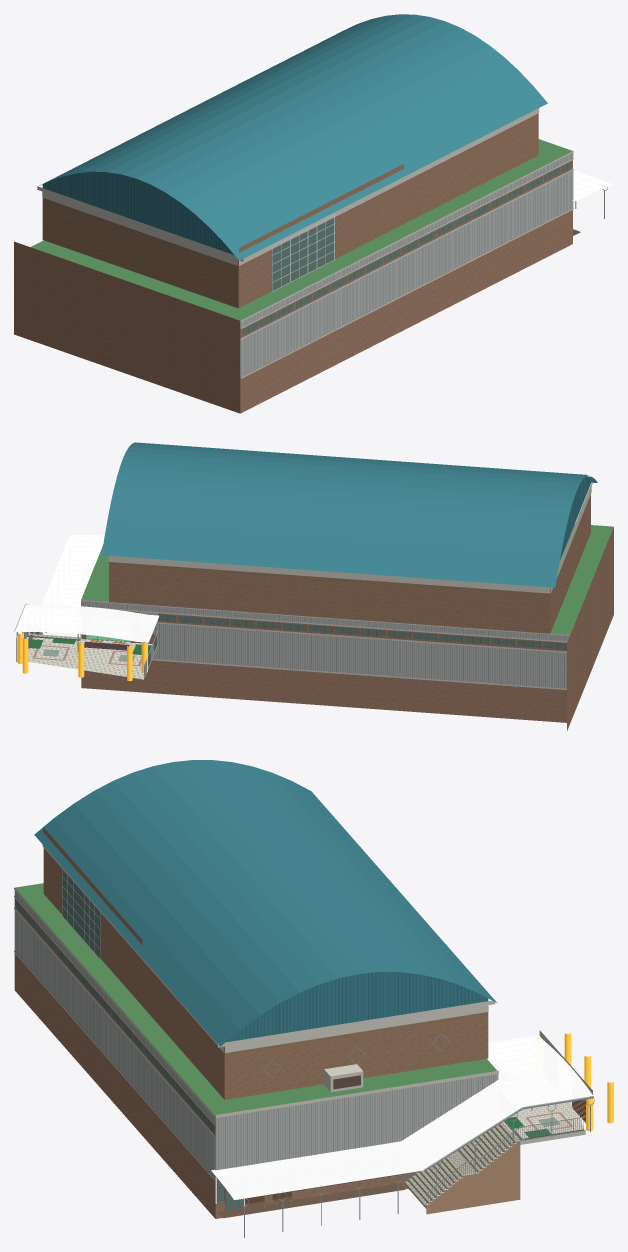
3 renders of one model, top to bottom at view 1: azimuth 30°, elevation 25°; view 2: azimuth 150°, elevation 25°; view 3: azimuth 270°, elevation 25°, orthographic. The views are drawn at different scales.
Visible parts, largest first — view 1: gym__roof-metal, gym__gym-low-brick, gym__gym-upper-brick, gym__gym-corrugated, gym__gym-corrugated-rib, gym__roof-green-terrace, gym__trim-concrete, gym__arch-end, gym__gym-low-glass, gym__arch-metal-seam, gym__frame, gym__deck-canopy-glass-panel; view 2: gym__roof-metal, gym__gym-low-brick, gym__gym-upper-brick, gym__gym-corrugated, gym__gym-corrugated-rib, gym__trim-concrete, gym__deck-canopy-glass-panel, gym__roof-green-terrace, gym__deck-tile-light, gym__gym-low-glass, gym__deck-mustard-column, gym__deck-tile-seam (+2 smaller); view 3: gym__roof-metal, gym__gym-corrugated, gym__gym-upper-brick, gym__deck-canopy-glass-panel, gym__gym-corrugated-rib, gym__gym-low-brick, gym__roof-green-terrace, gym__arch-end, gym__trim-concrete, gym__gym-low-glass, gym__stair-cheek-plaster, gym__terrace-tile (+8 smaller).
Boxes of the visible parts, x1,y1,x2,y2 form: gym__roof-metal: (39,14,547,260); gym__gym-low-brick: (14,158,572,413); gym__gym-upper-brick: (42,113,538,308); gym__gym-corrugated: (240,151,572,377); gym__gym-corrugated-rib: (241,153,573,376); gym__roof-green-terrace: (30,139,572,320); gym__trim-concrete: (37,108,573,378); gym__arch-end: (42,171,233,254); gym__gym-low-glass: (243,161,571,335); gym__arch-metal-seam: (43,172,233,254); gym__frame: (272,214,335,291); gym__deck-canopy-glass-panel: (572,170,613,201); gym__roof-metal: (101,442,597,587); gym__gym-low-brick: (81,527,613,730); gym__gym-upper-brick: (109,494,590,633); gym__gym-corrugated: (81,601,569,688); gym__gym-corrugated-rib: (81,601,568,688); gym__trim-concrete: (14,482,592,689); gym__deck-canopy-glass-panel: (14,535,159,642); gym__roof-green-terrace: (81,524,613,634); gym__deck-tile-light: (26,635,157,679); gym__gym-low-glass: (158,614,566,649); gym__deck-mustard-column: (17,633,147,681); gym__deck-tile-seam: (28,635,157,678); gym__roof-metal: (34,760,496,1046); gym__gym-corrugated: (14,888,497,1178); gym__gym-upper-brick: (43,827,488,1099); gym__deck-canopy-glass-panel: (211,1035,592,1199); gym__gym-corrugated-rib: (16,892,498,1178); gym__gym-low-brick: (14,896,419,1218); gym__roof-green-terrace: (15,883,496,1116); gym__arch-end: (226,972,488,1042); gym__trim-concrete: (14,845,593,1204); gym__gym-low-glass: (15,870,244,1210); gym__stair-cheek-plaster: (426,1141,520,1214); gym__terrace-tile: (404,1122,517,1208).
Size of the model in its own units: 48.96 by 15.89 by 40.97.
Materials: 51 (2 with a texture image).
